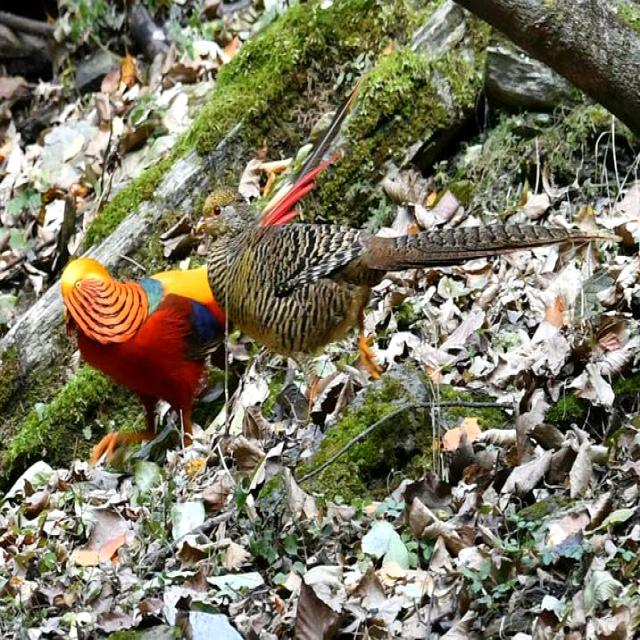Chrysolophus pictus feather: (369, 225, 624, 271)
